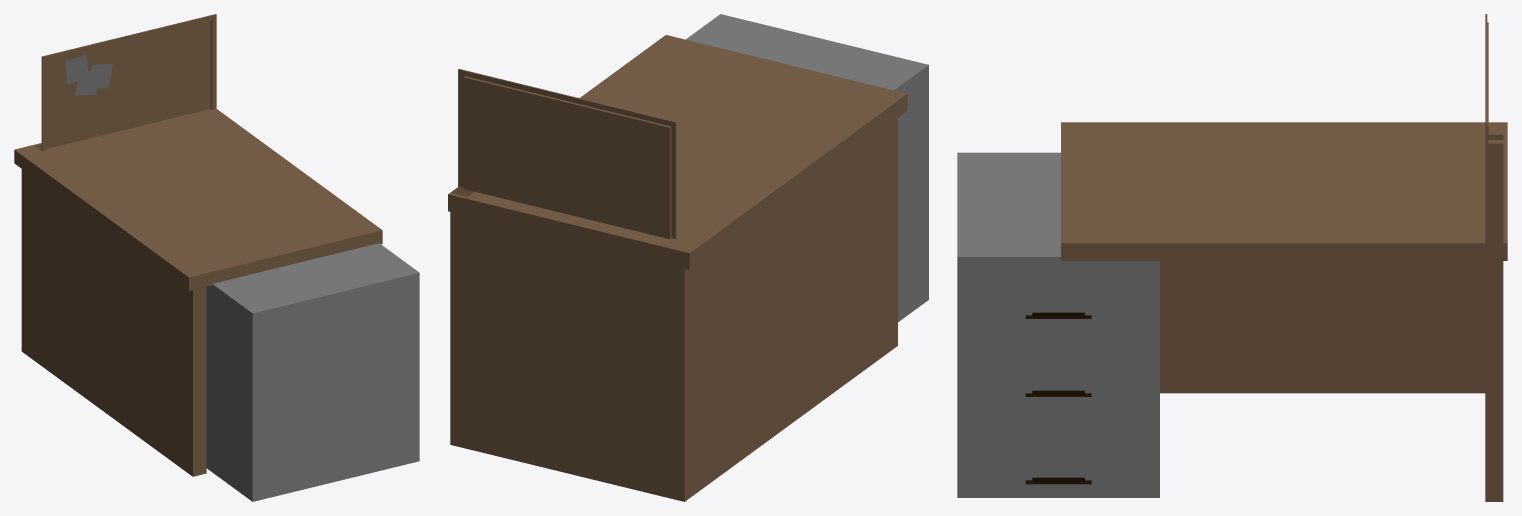
File: desk_temp.fbx
3 views of the same model, side by side, from view 1: azimuth 30°, elevation 25°; view 2: azimuth 150°, elevation 25°; view 3: azimuth 270°, elevation 25° (orthographic). The views are drawn at different scales.
Visible parts, largest first — view 1: polySurface16; view 2: polySurface16; view 3: polySurface16.
Part boxes in pixels (bbox=[...]): polySurface16: bbox=[14, 14, 419, 501]; polySurface16: bbox=[448, 14, 928, 501]; polySurface16: bbox=[957, 14, 1507, 501].
Bounding box in the file's own units: 30.82 × 44.42 × 58.45.
